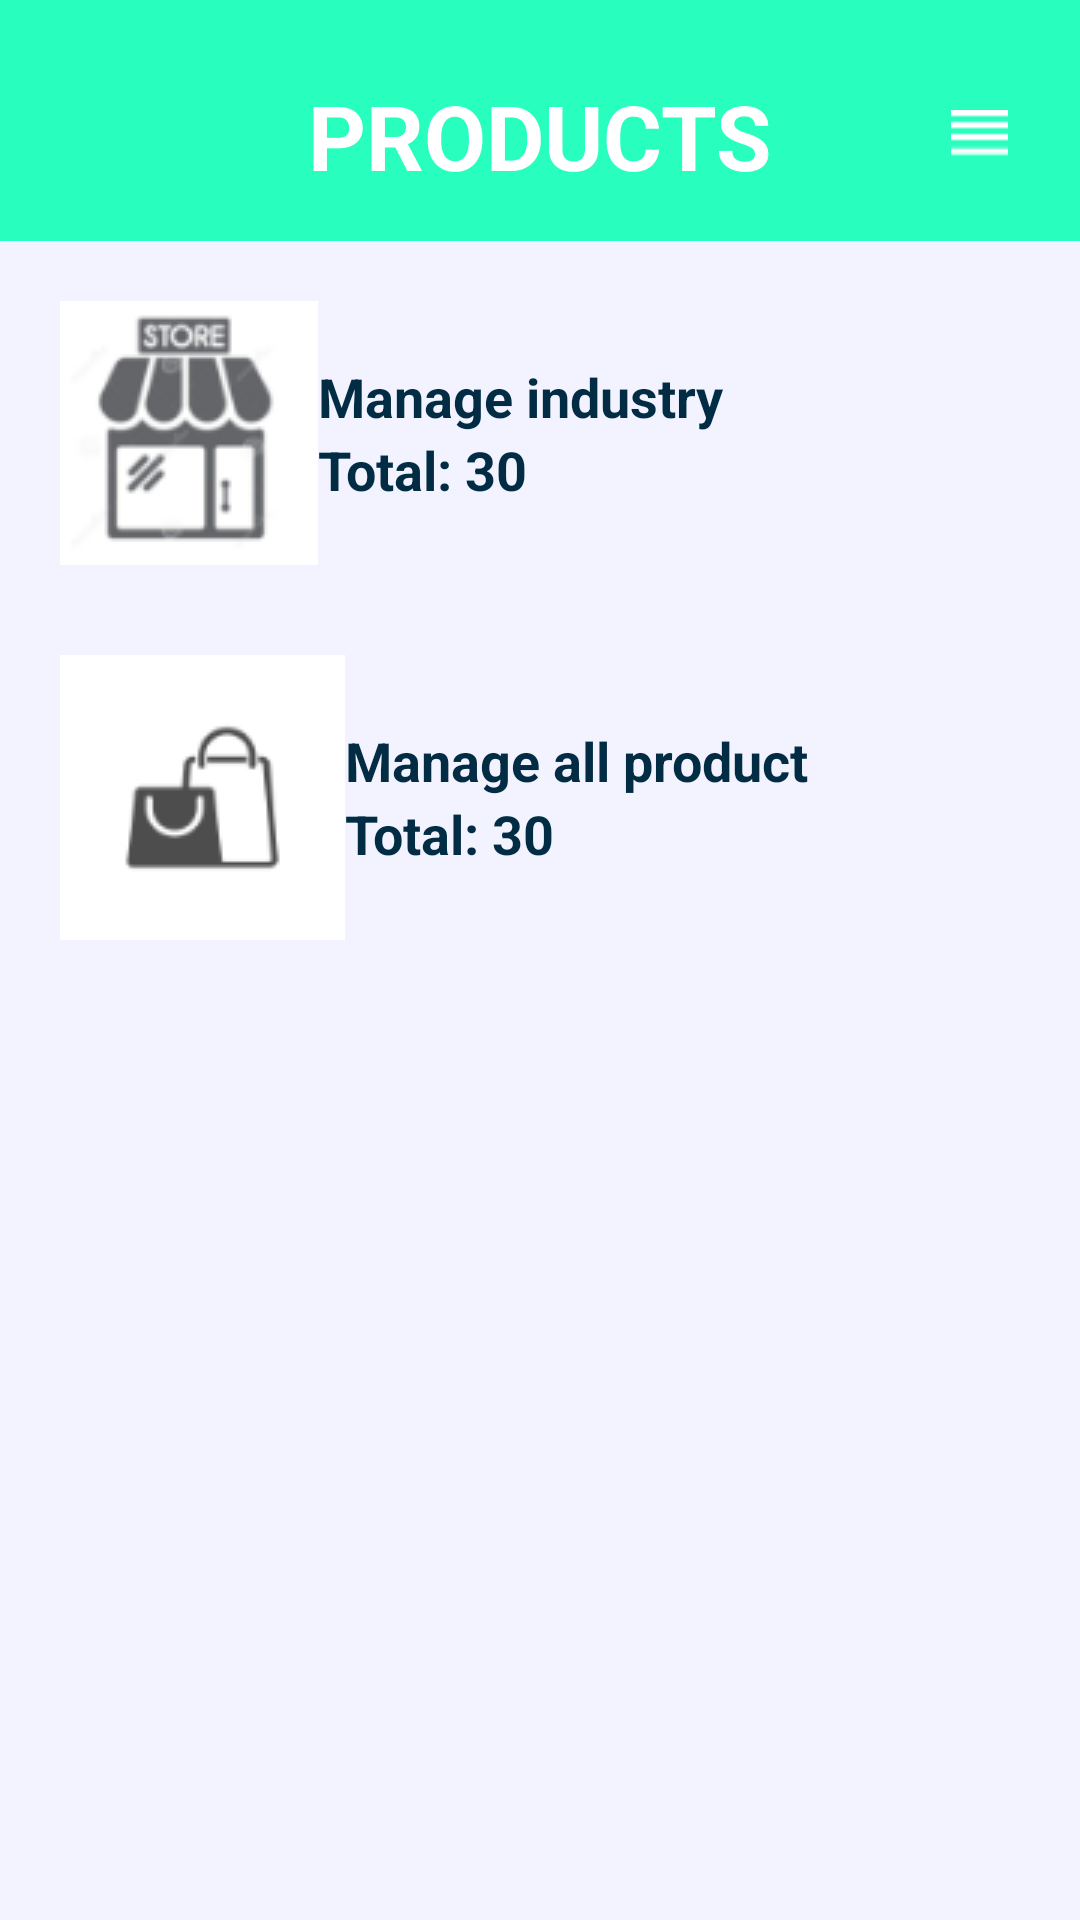

Named icons in this screenshot (1080w x 1920h) and their bounding boxes, box=[x1, y1, x2, y2]:
menu: box=[951, 110, 1008, 156]
